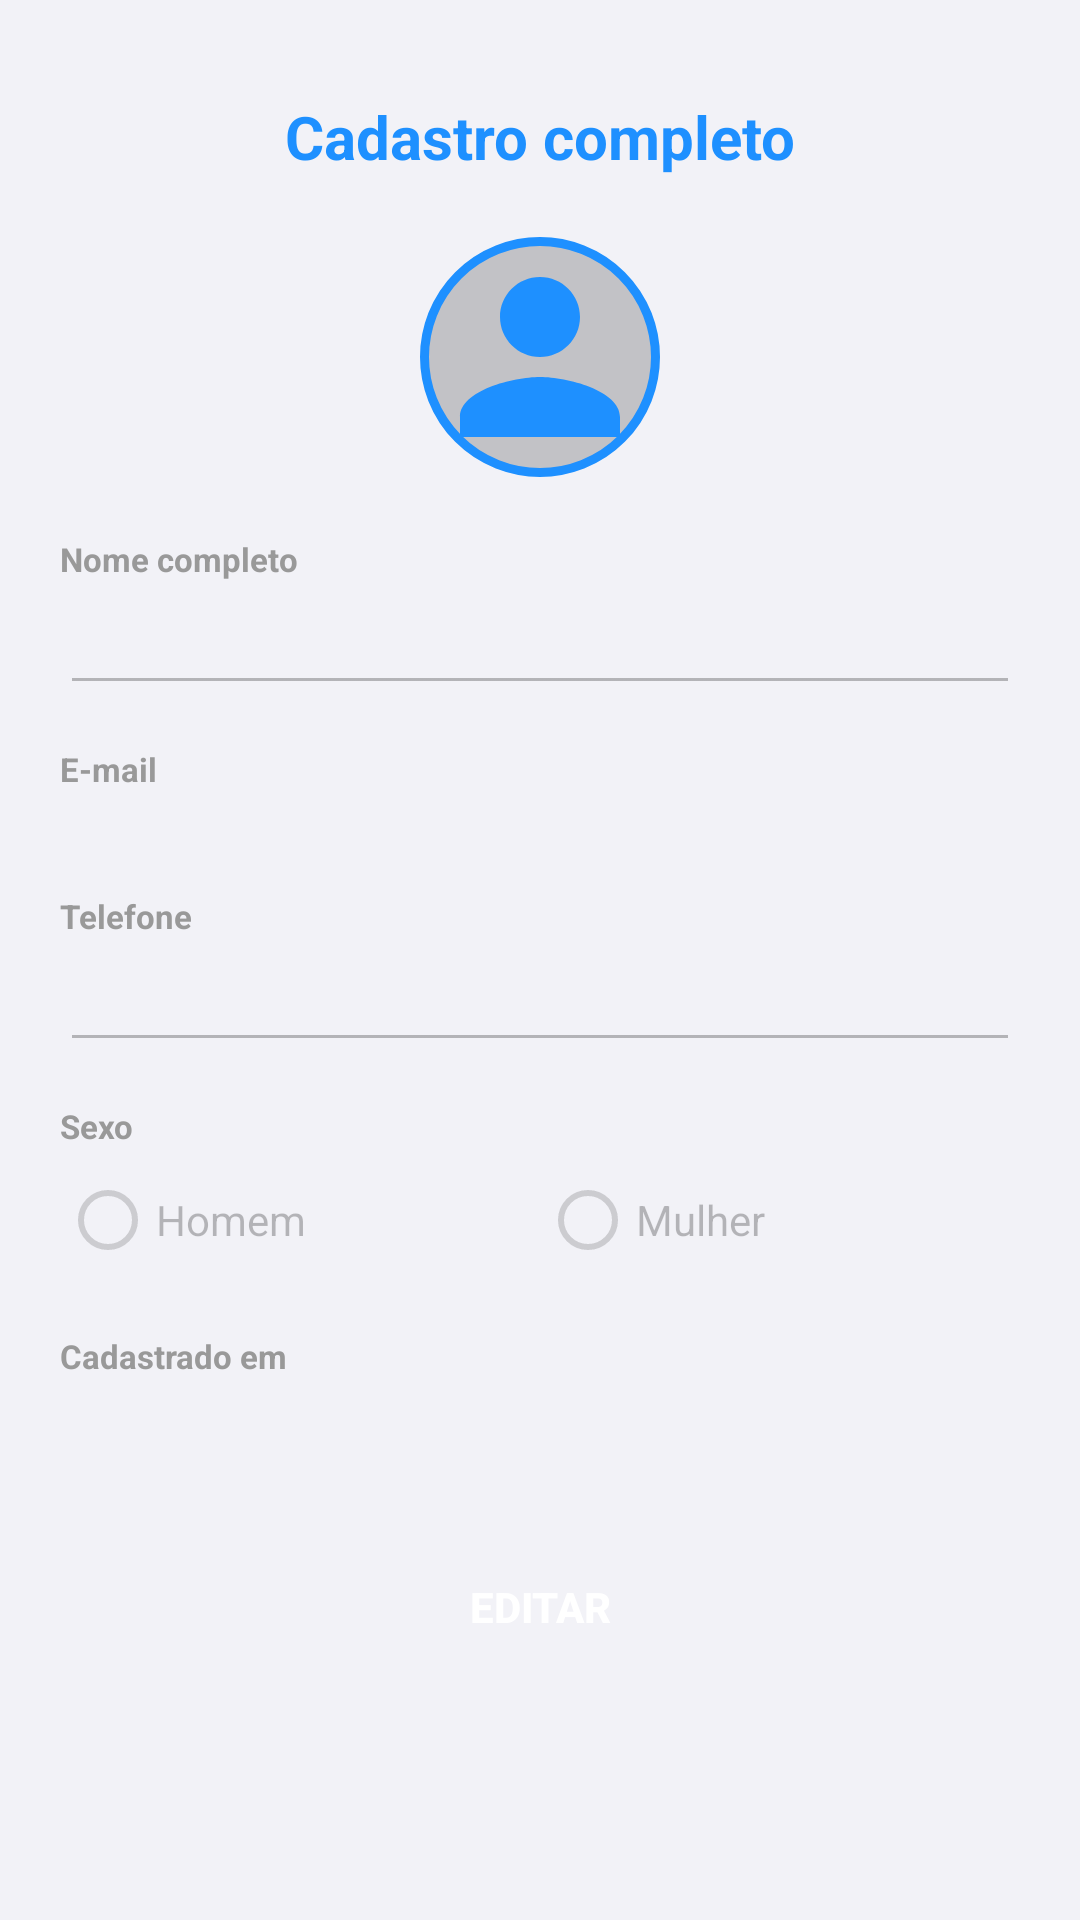

Icon click points for this 1080px×1920px phone screenshot, format point (x, y):
person: point (540, 357)
